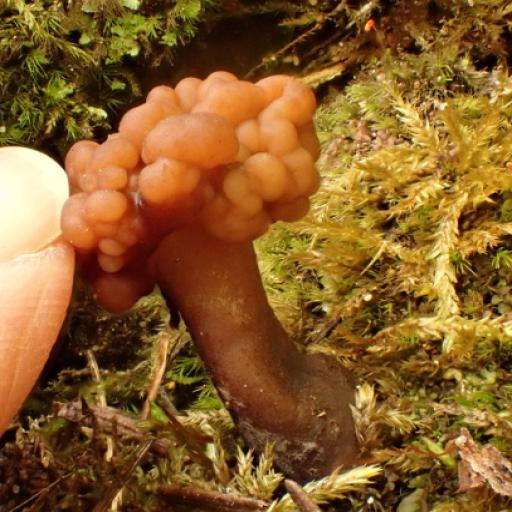False Morel: (59, 73, 359, 486)
